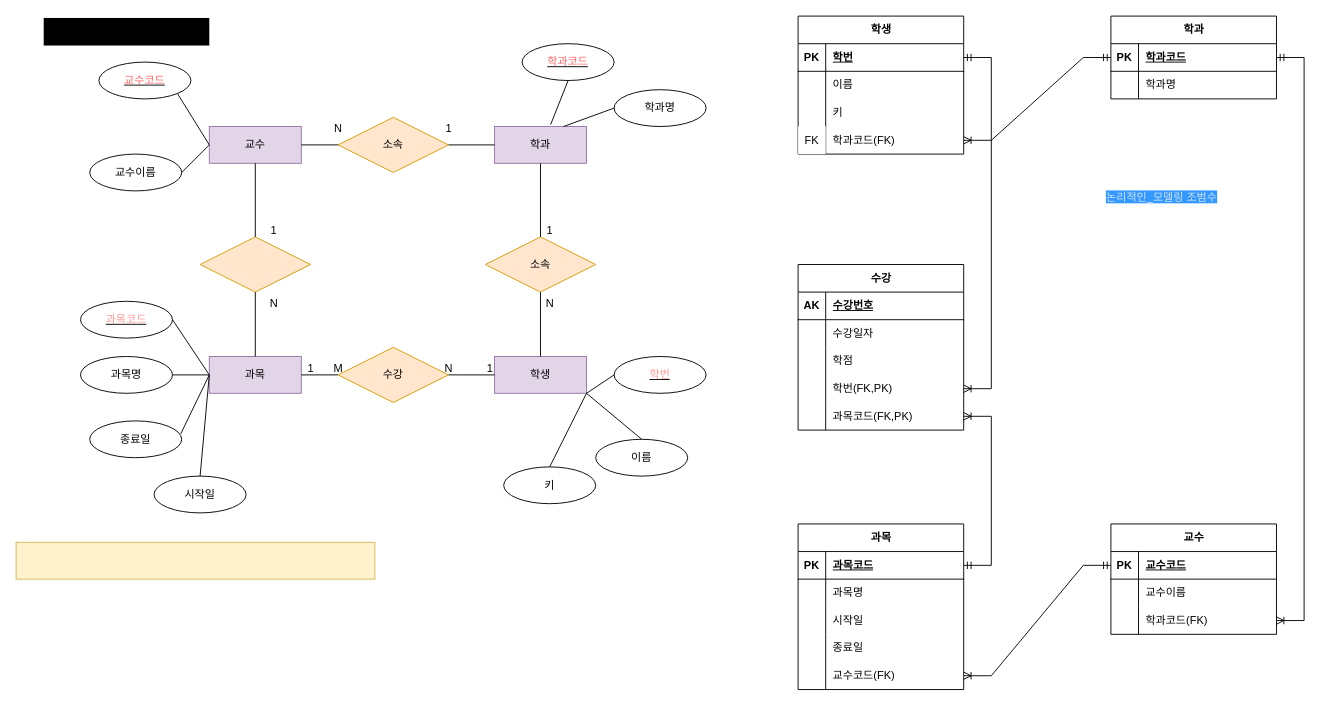
Some shapes in this 1328 by 706 pixel diagram are drawn without their labels. The shapes that lost their labels are listed below. From the top down, each one's centre as x and y in pixels, then its label:
At point (126, 31): "학사관리 시스템 ERD 조범수".
At point (254, 264): "강의".
At point (195, 560): "1:N에서 테이블을 만들 때 1쪽에 있는 pk를 n쪽에 옮겨서 fk로 만들고 m:n관계에서는 따로 테이블을 만든다.".
